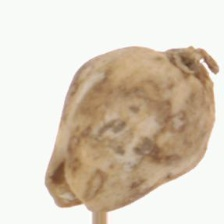L1: (44, 162, 119, 212), (163, 45, 214, 89)
L2: (44, 45, 216, 213)
